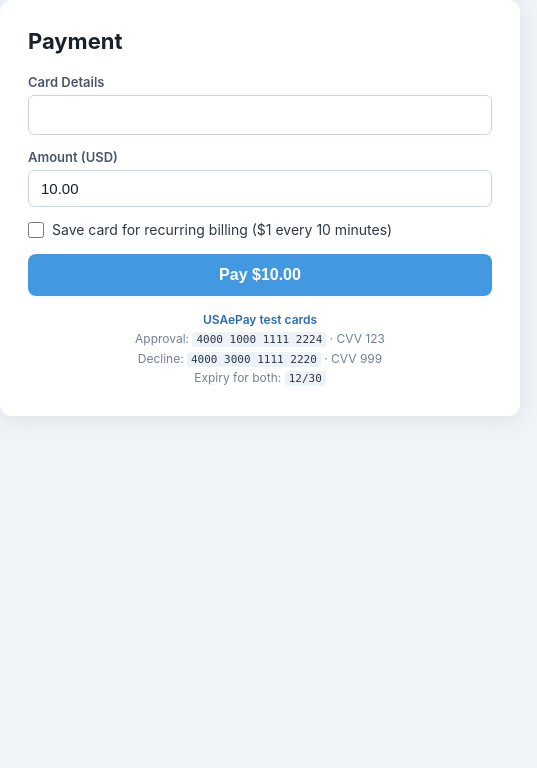
shows the approved receipt and dismisses it without submitting again
Click the checkbox labelled "Save card for recurring billing ($1 every 10 minutes)". click: (36, 230)
box: [28,222,44,238]
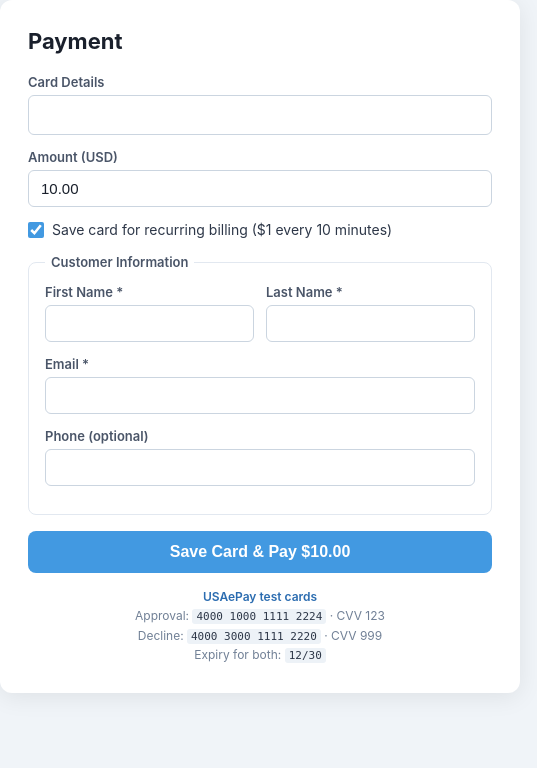
Type "Test" into the field labelled "First Name *". click: (150, 324)
box: [45,305,254,342]
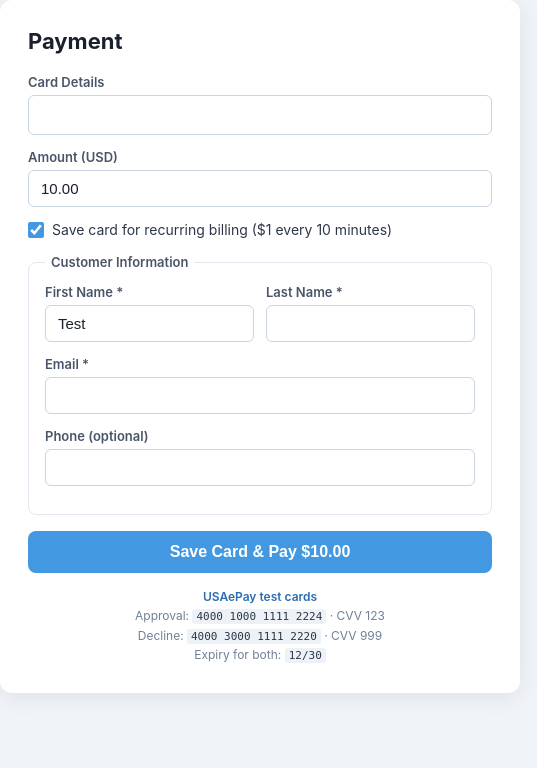
Type "Customer" into the field labelled "Last Name *". click: (370, 324)
box: [266,305,475,342]
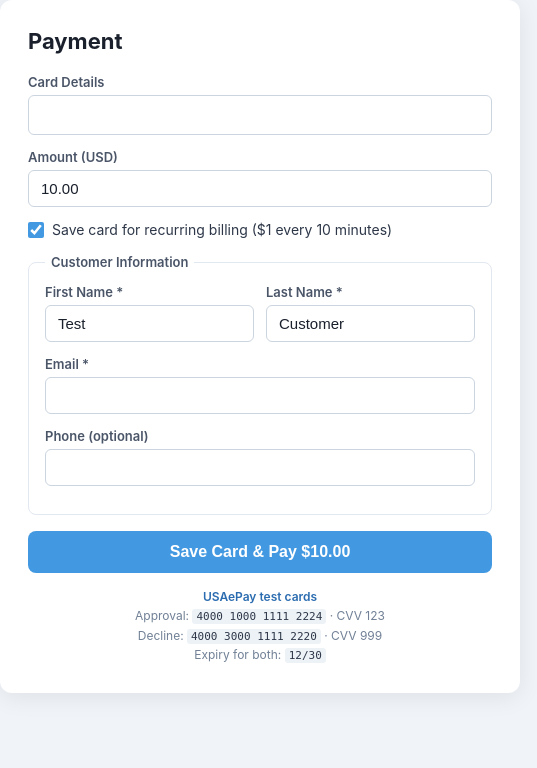
Type "test@example.com" into the field labelled "Email *". click: (260, 396)
box: [45,377,475,414]
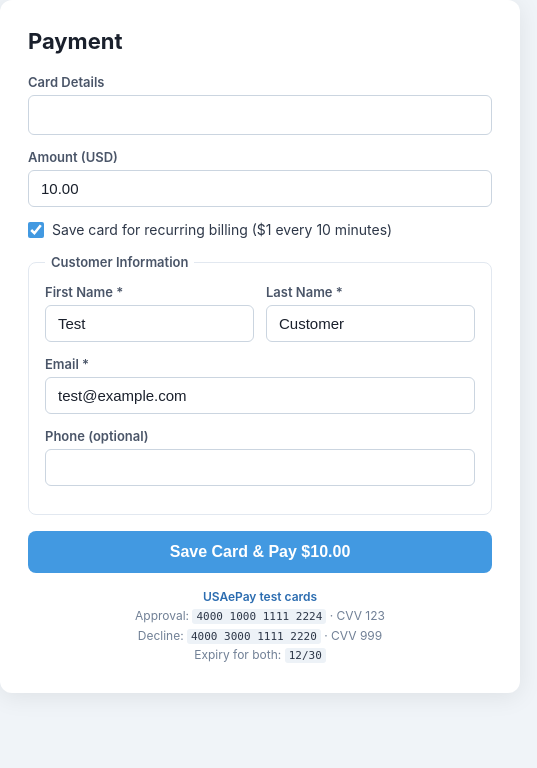
Click the button "Save Card & Pay $10.00". click: (260, 552)
box: [28,531,492,573]
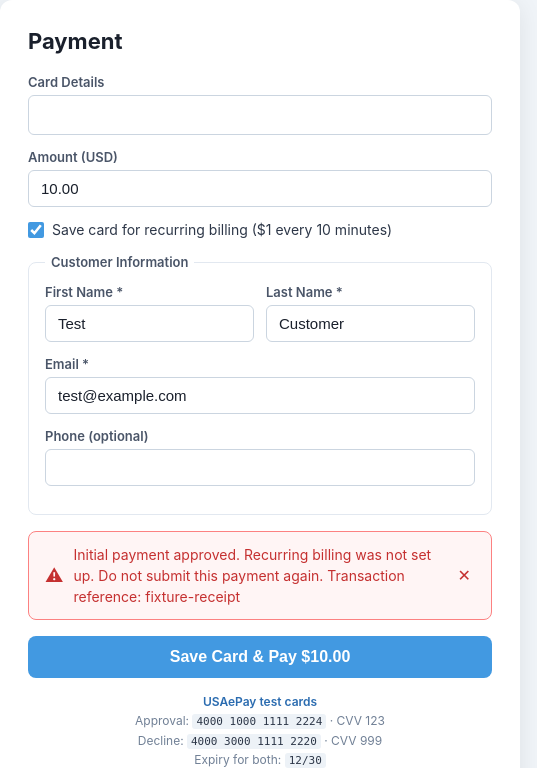
Expected: the message shows "Initial payment approved. Recurring billing was not set up. Do not submit this payment again.", [74,546,431,605]
Expected: the message shows "Transaction reference: fixture-receipt", [74,546,431,605]
Click the button named "Dismiss error". click: (464, 576)
box: [454,564,475,588]
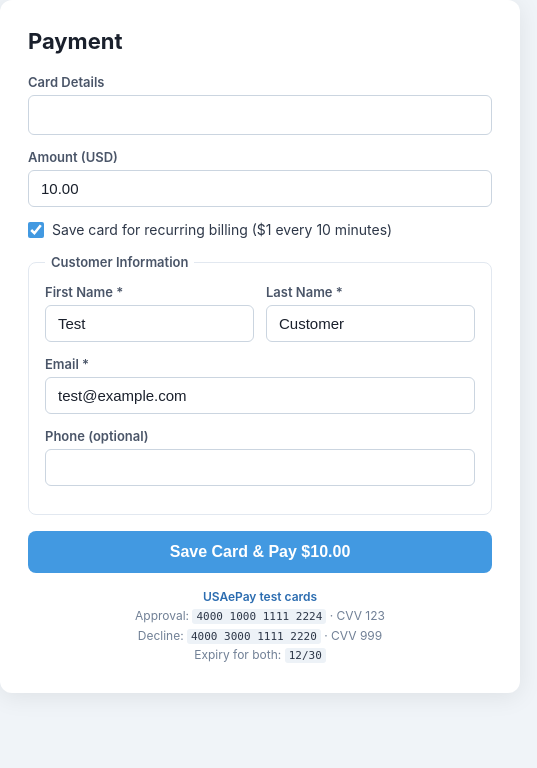
Expected: the message is gone
